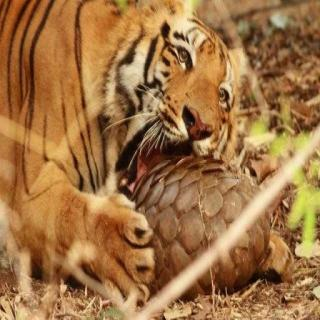Tiger: (0, 0, 242, 312)
